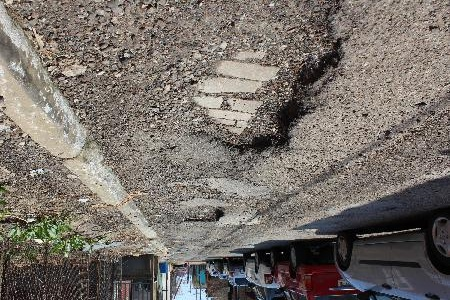pothole: (174, 0, 352, 153), (179, 204, 226, 226)
